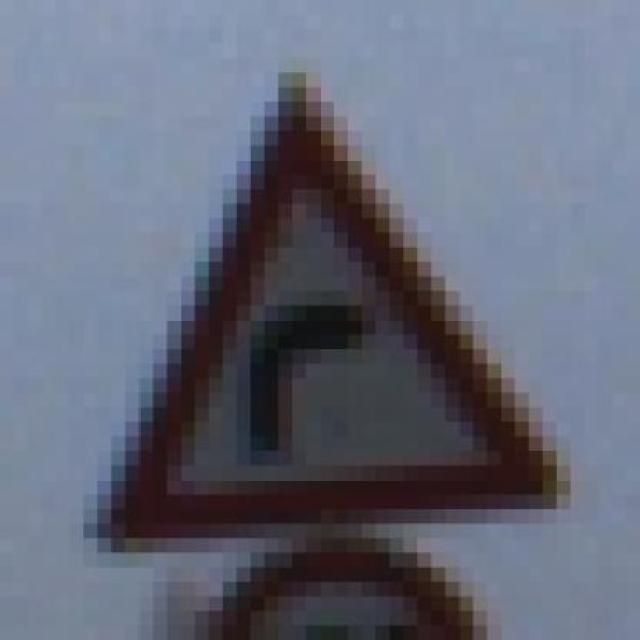Dangerous Rright Curve Ahead: (56, 59, 584, 538)
